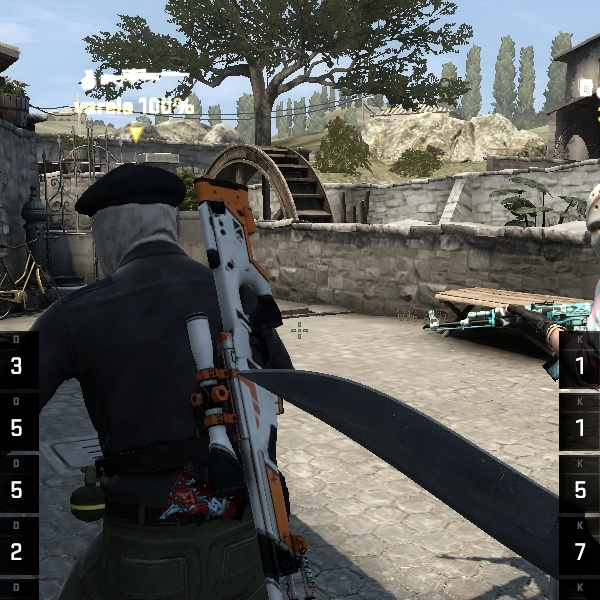t_body: (0, 142, 378, 589)
